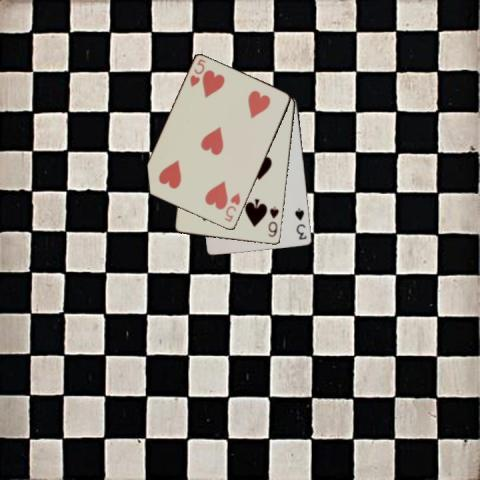3s: (292, 206, 308, 241)
5h: (221, 190, 242, 223), (187, 56, 207, 89)
6s: (265, 203, 280, 239)
